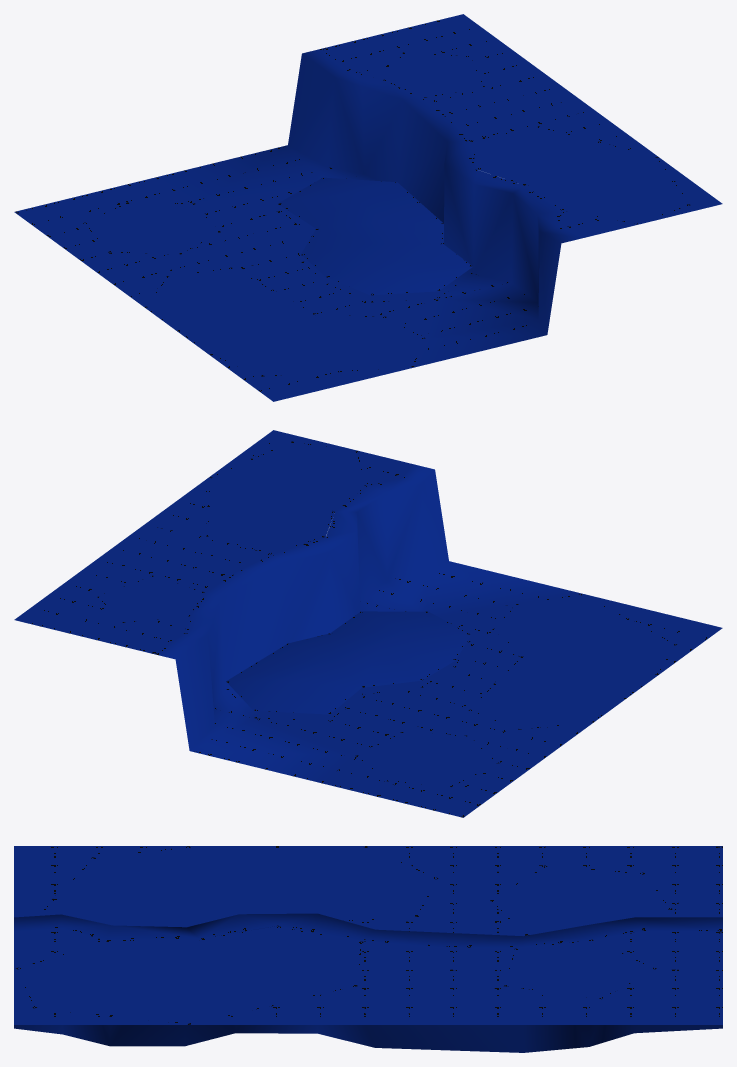
The model's file is GRD_S_C6_2.fbx.
The picture shows the model from 3 angles, top to bottom: view 1: azimuth 30°, elevation 25°; view 2: azimuth 150°, elevation 25°; view 3: azimuth 270°, elevation 25°; orthographic projection. The views are drawn at different scales.
Parts seen in each view (by area): view 1: material_00022000, material_C0032000, material_00042000, material_C0012000, material_C0052000; view 2: material_00022000, material_C0032000, material_00042000, material_C0012000, material_C0052000; view 3: material_C0032000, material_00022000, material_00042000.
Part boxes in pixels (box(x1,y1,x2,y2)): material_00022000: box(14, 14, 722, 401); material_C0032000: box(83, 52, 691, 376); material_00042000: box(288, 48, 581, 334); material_C0012000: box(278, 177, 472, 295); material_C0052000: box(278, 207, 472, 302); material_00022000: box(14, 430, 722, 817); material_C0032000: box(97, 441, 677, 787); material_00042000: box(155, 464, 448, 750); material_C0012000: box(226, 611, 470, 714); material_C0052000: box(226, 640, 471, 721); material_C0032000: box(14, 846, 672, 1024); material_00022000: box(14, 846, 722, 1024); material_00042000: box(14, 913, 722, 1052).
Bounding box in the file's own units: 12800 × 2400 × 12800.
